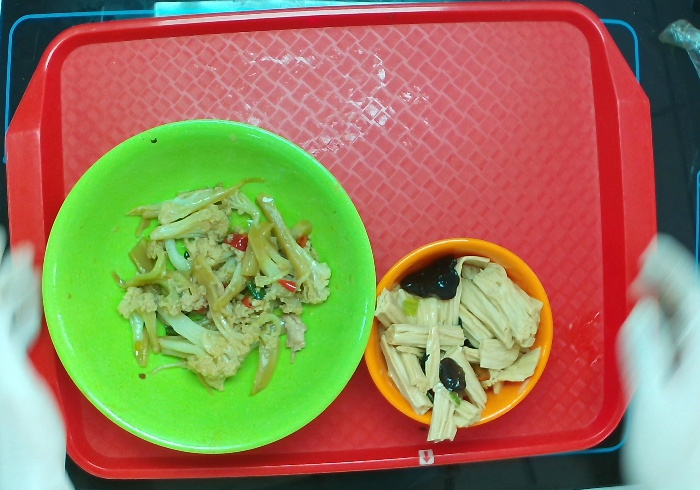YKMZ-Ju_Se_Yuan_Wan: (370, 222, 561, 430)
YKMZ-Lv_Se_Tang_Wan: (44, 116, 378, 457)
